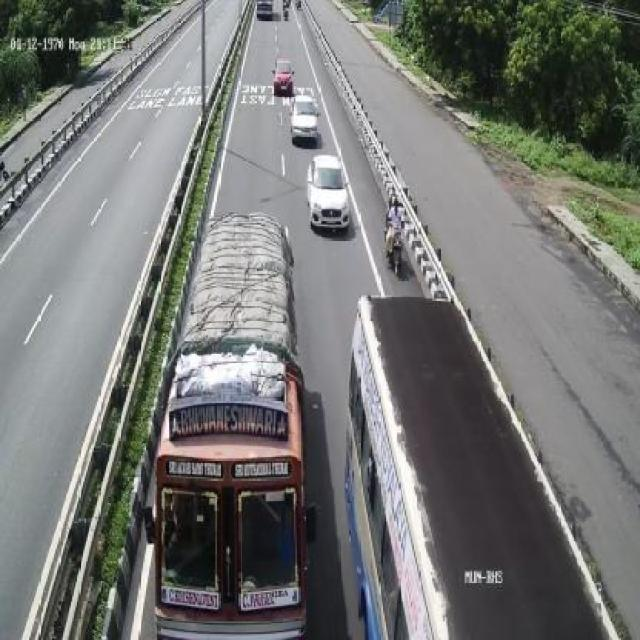car: (308, 152, 354, 232), (292, 85, 322, 146), (272, 52, 298, 98)
